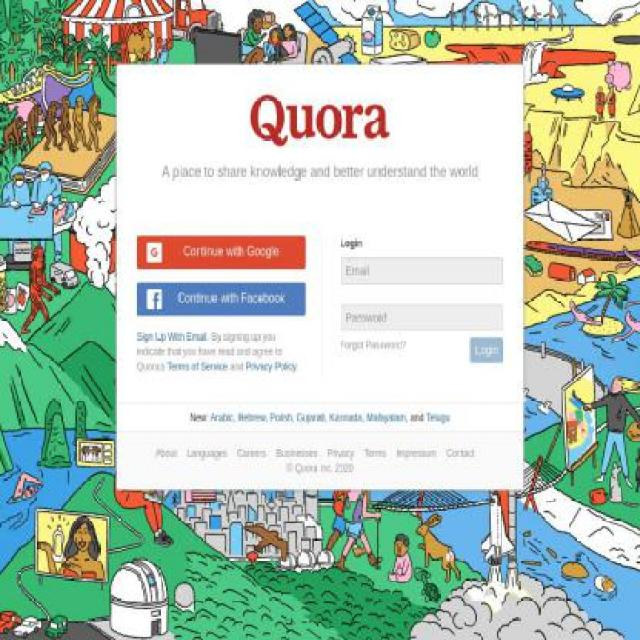button: (137, 236, 306, 270), (137, 282, 306, 316)
field: (340, 257, 503, 285), (340, 303, 503, 331), (470, 336, 504, 362)
